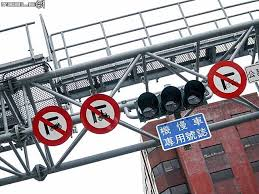No_right_turn: (206, 60, 246, 99)
